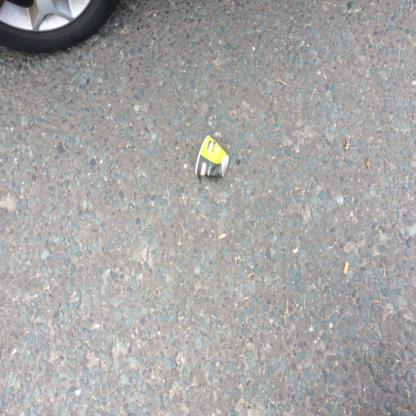trash: (194, 134, 234, 179)
